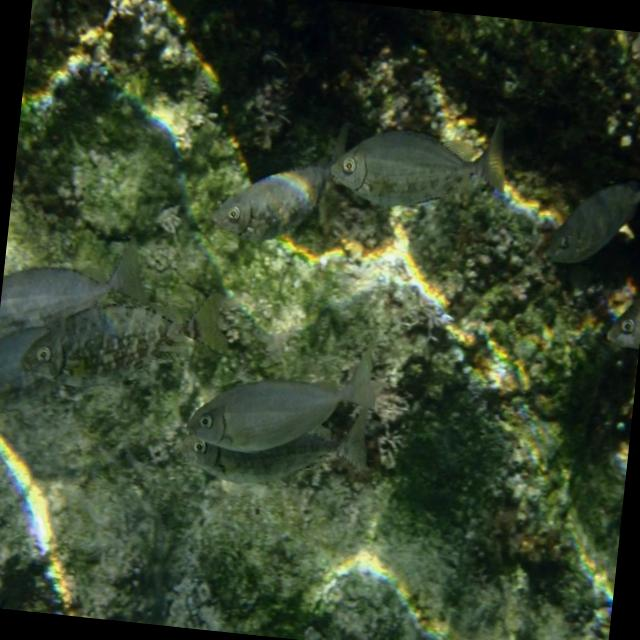Sokar Baligi: (164, 326, 415, 522), (326, 90, 524, 228), (540, 146, 640, 277)
